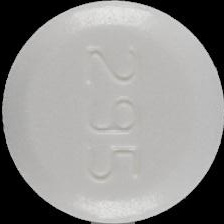52544-295: (0, 0, 224, 224)
